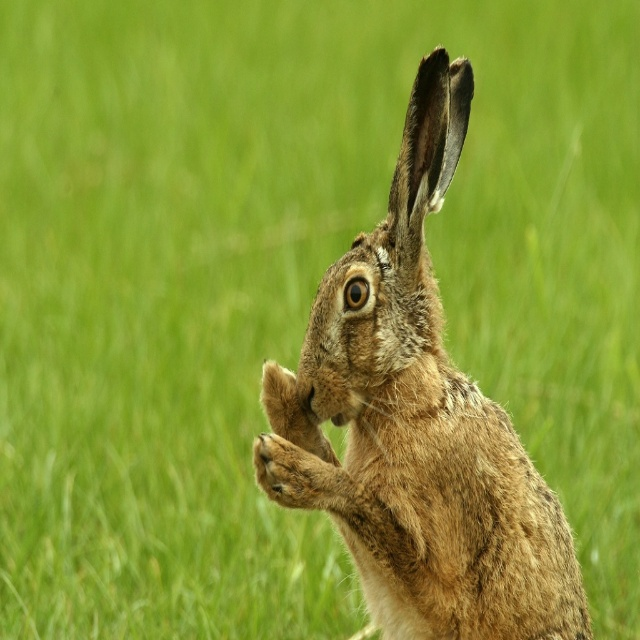Rabbit: (250, 44, 592, 639)
